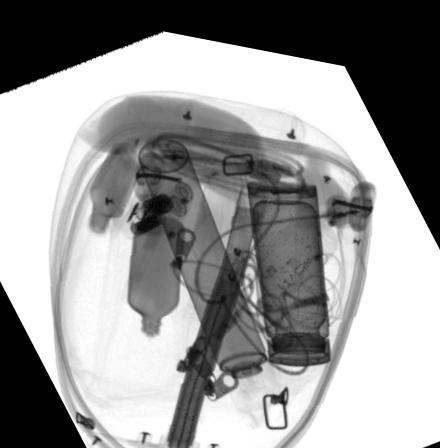Sprayer: (136, 130, 282, 403)
